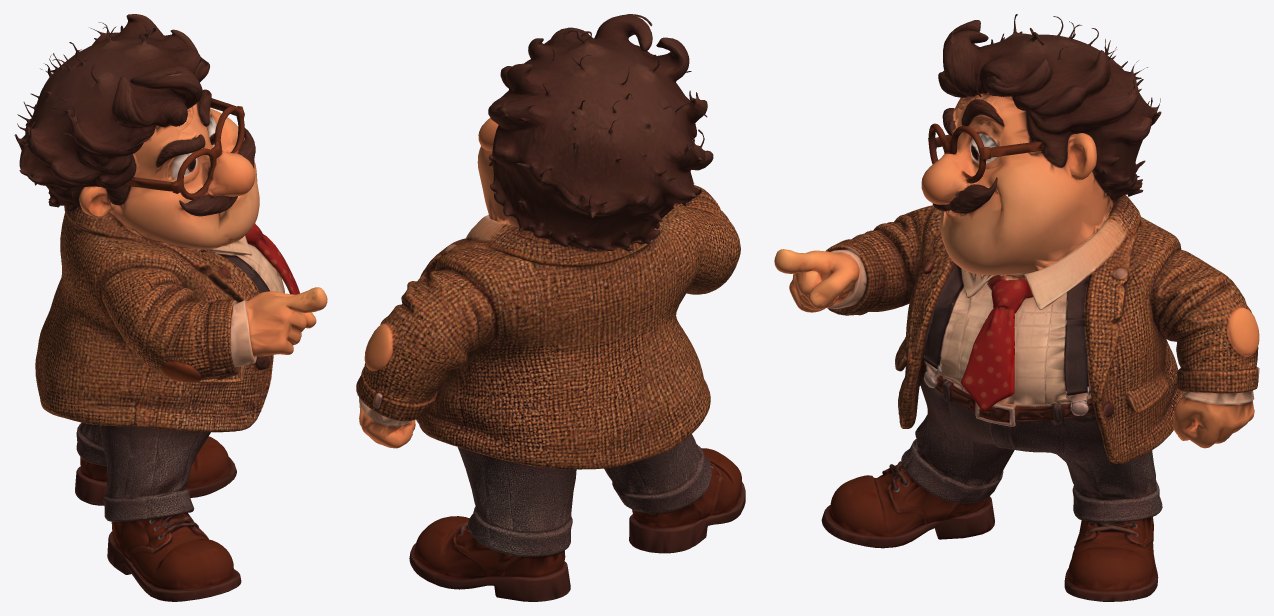
The model's file is pavio-corpo.glb.
3 renders of one model, left to right at view 1: azimuth 30°, elevation 25°; view 2: azimuth 150°, elevation 25°; view 3: azimuth 270°, elevation 25°, orthographic. The views are drawn at different scales.
Parts seen in each view (by area): view 1: tripo_node_aa200f8e-bc00-494a-8e82-8cab87863467; view 2: tripo_node_aa200f8e-bc00-494a-8e82-8cab87863467; view 3: tripo_node_aa200f8e-bc00-494a-8e82-8cab87863467.
Boxes of the visible parts, x1=… form: tripo_node_aa200f8e-bc00-494a-8e82-8cab87863467: x1=14, y1=14, x2=327, y2=601; tripo_node_aa200f8e-bc00-494a-8e82-8cab87863467: x1=356, y1=14, x2=745, y2=601; tripo_node_aa200f8e-bc00-494a-8e82-8cab87863467: x1=774, y1=14, x2=1259, y2=601.
Bounding box in the file's own units: 0.5332 × 0.9791 × 0.8263.
Materials: 1 (1 with a texture image).
